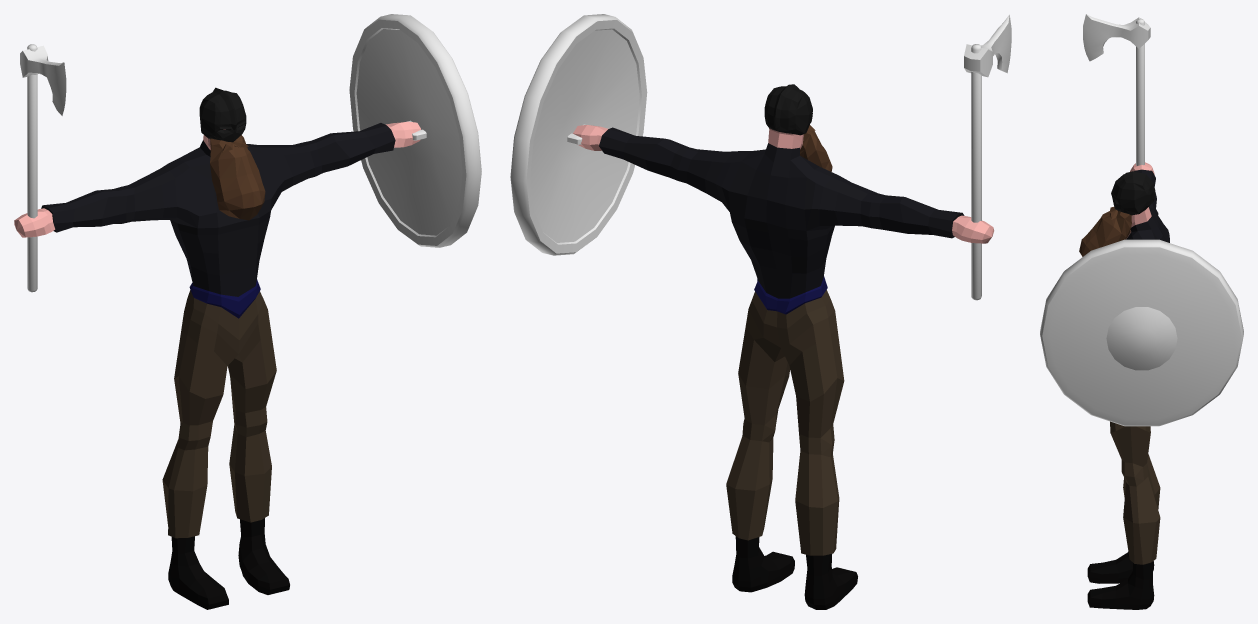
Rendered from AxeMan.FBX.
The picture shows the model from 3 angles, left to right: view 1: azimuth 30°, elevation 25°; view 2: azimuth 150°, elevation 25°; view 3: azimuth 270°, elevation 25°; orthographic projection. The views are drawn at different scales.
Parts seen in each view (by area): view 1: body, Mesh_Shield, Axe_Beard, Mesh_Axe; view 2: body, Mesh_Shield, Mesh_Axe, Axe_Beard; view 3: Mesh_Shield, body, Axe_Beard, Mesh_Axe.
Part boxes in pixels (<box>): body: <box>14,121,420,609</box>; Mesh_Shield: <box>349,14,481,247</box>; Axe_Beard: <box>199,87,265,220</box>; Mesh_Axe: <box>20,44,66,292</box>; body: <box>573,125,994,609</box>; Mesh_Shield: <box>510,14,647,255</box>; Mesh_Axe: <box>964,14,1011,300</box>; Axe_Beard: <box>764,84,832,171</box>; Mesh_Shield: <box>1040,239,1243,426</box>; body: <box>1087,162,1169,609</box>; Axe_Beard: <box>1079,171,1155,256</box>; Mesh_Axe: <box>1083,14,1150,165</box>.
Bounding box in the file's own units: 72.33 × 95.73 × 35.4.
